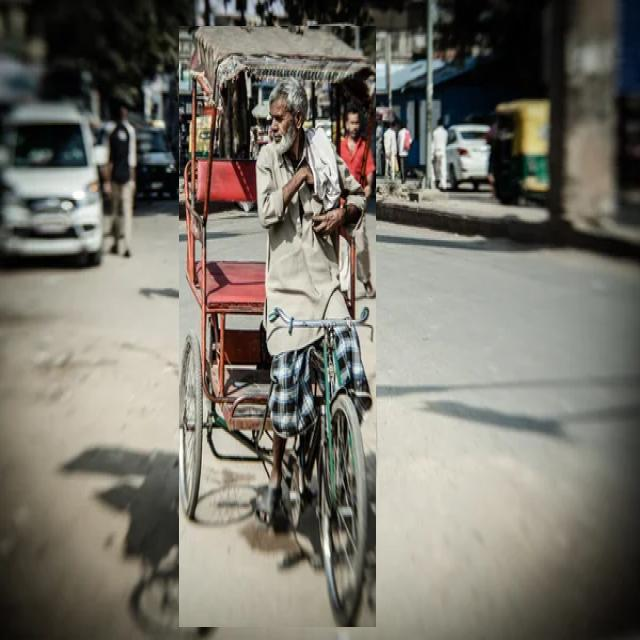bicycle: (179, 26, 376, 627)
